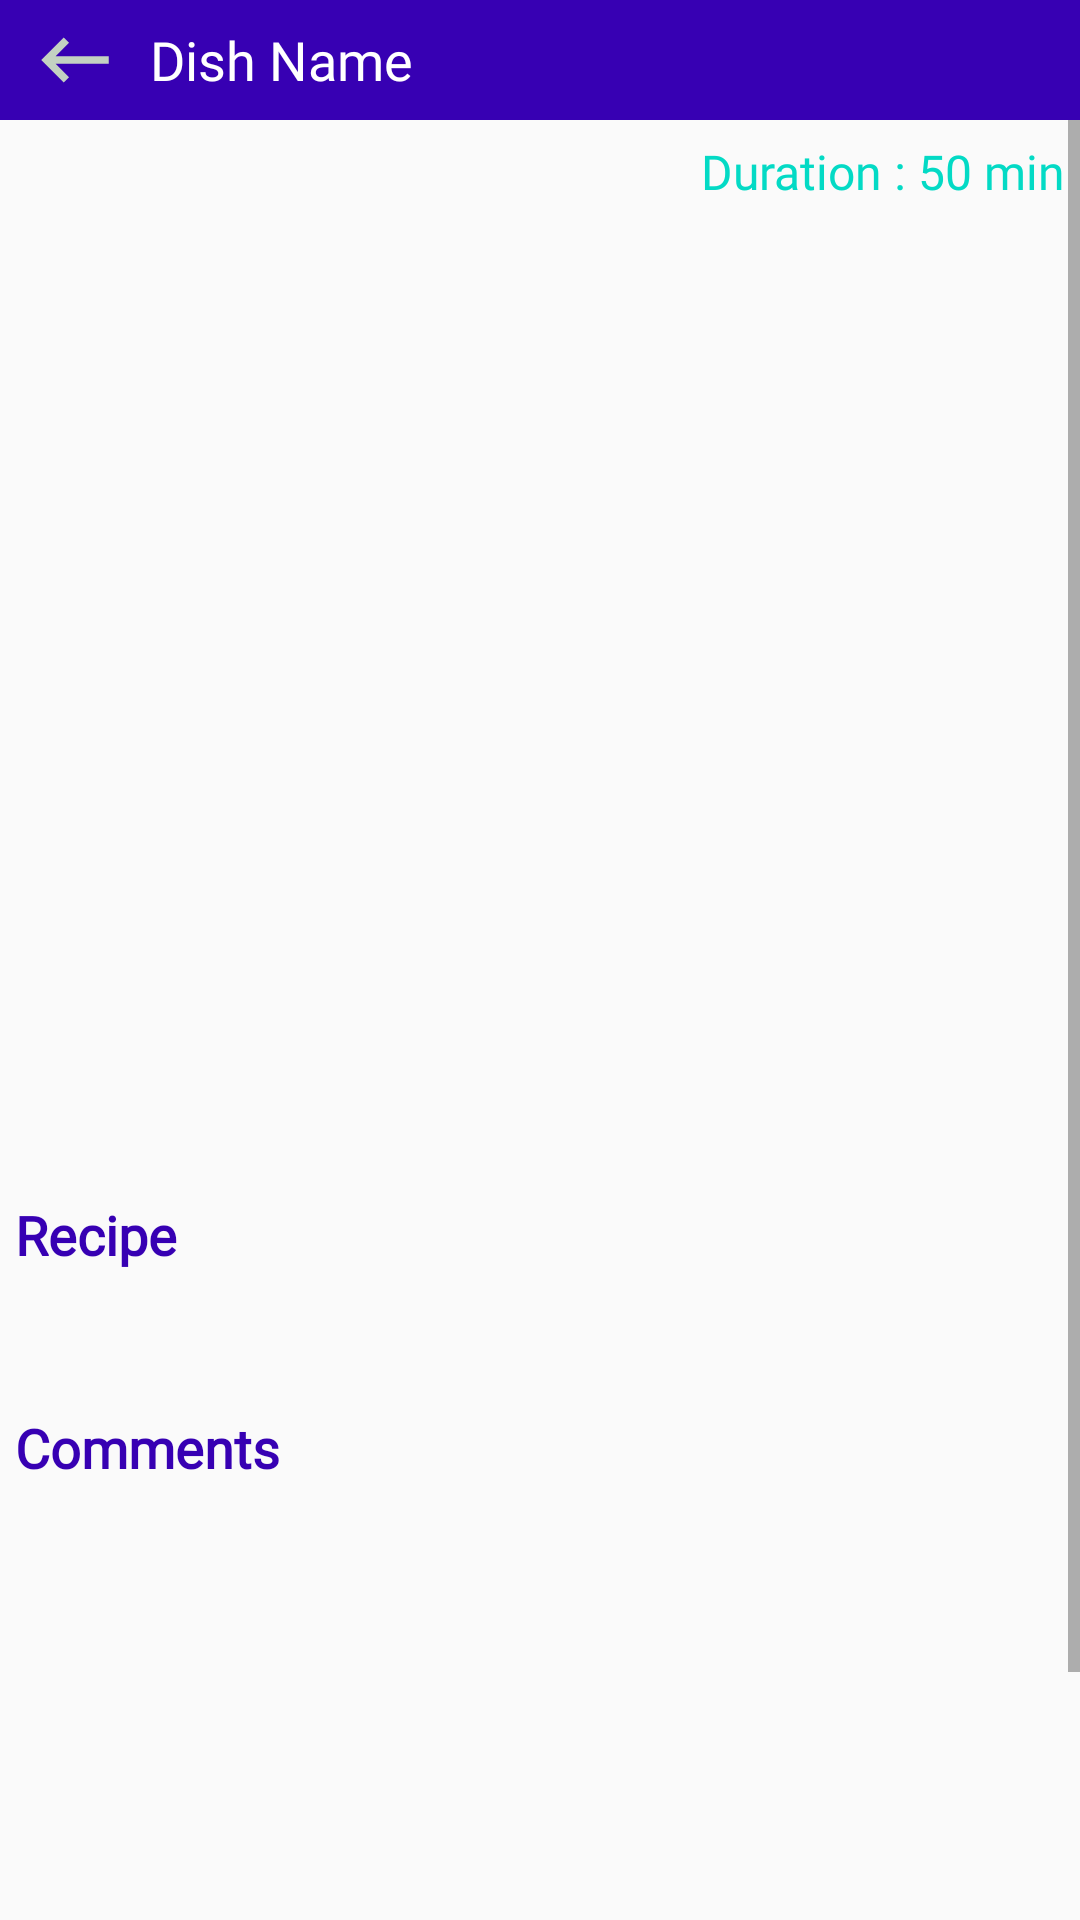

Icons on this 1080px x 1920px Android screen, each with the point to tap as (x=x, y=y):
keyboard backspace: (x=75, y=60)
